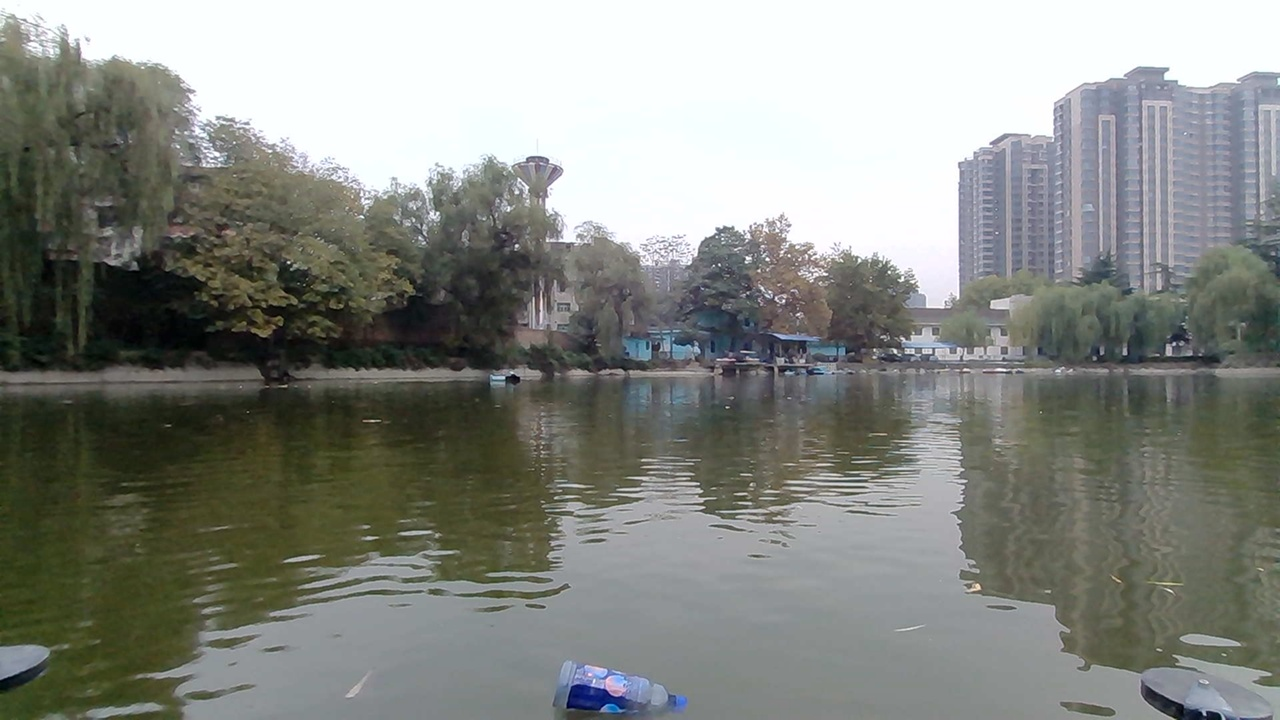bottle: (557, 664, 682, 720)
